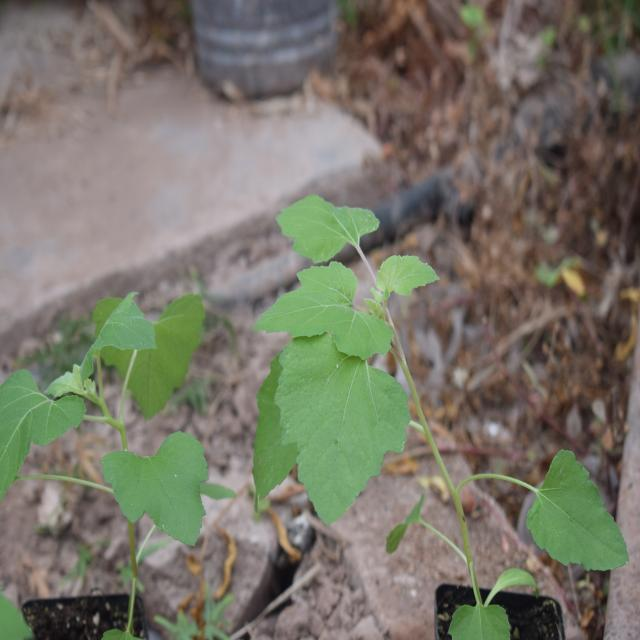cocklebur: (0, 242, 236, 556), (236, 152, 439, 489)
